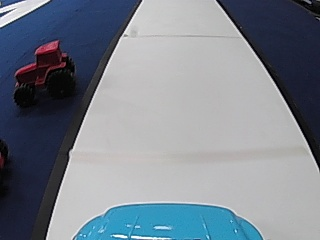tractor: (8, 38, 78, 108)
